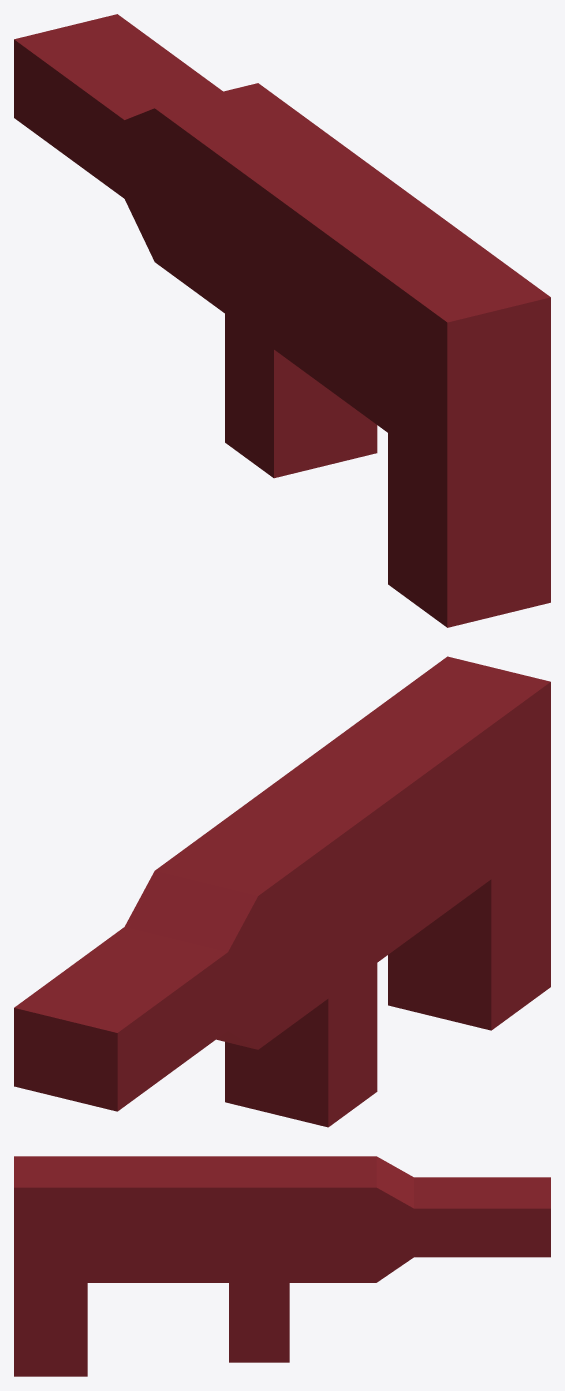
Rendered from testmachinegun.fbx.
3 renders of one model, top to bottom at view 1: azimuth 30°, elevation 25°; view 2: azimuth 150°, elevation 25°; view 3: azimuth 270°, elevation 25°, orthographic. The views are drawn at different scales.
Visible parts, largest first — view 1: machinegun; view 2: machinegun; view 3: machinegun.
Part boxes in pixels (box(x1,y1,x2,y2)): machinegun: box(14, 14, 550, 627); machinegun: box(14, 656, 550, 1127); machinegun: box(14, 1156, 550, 1376).
Bounding box in the file's own units: 0.3733 × 2.71 × 1.05.
